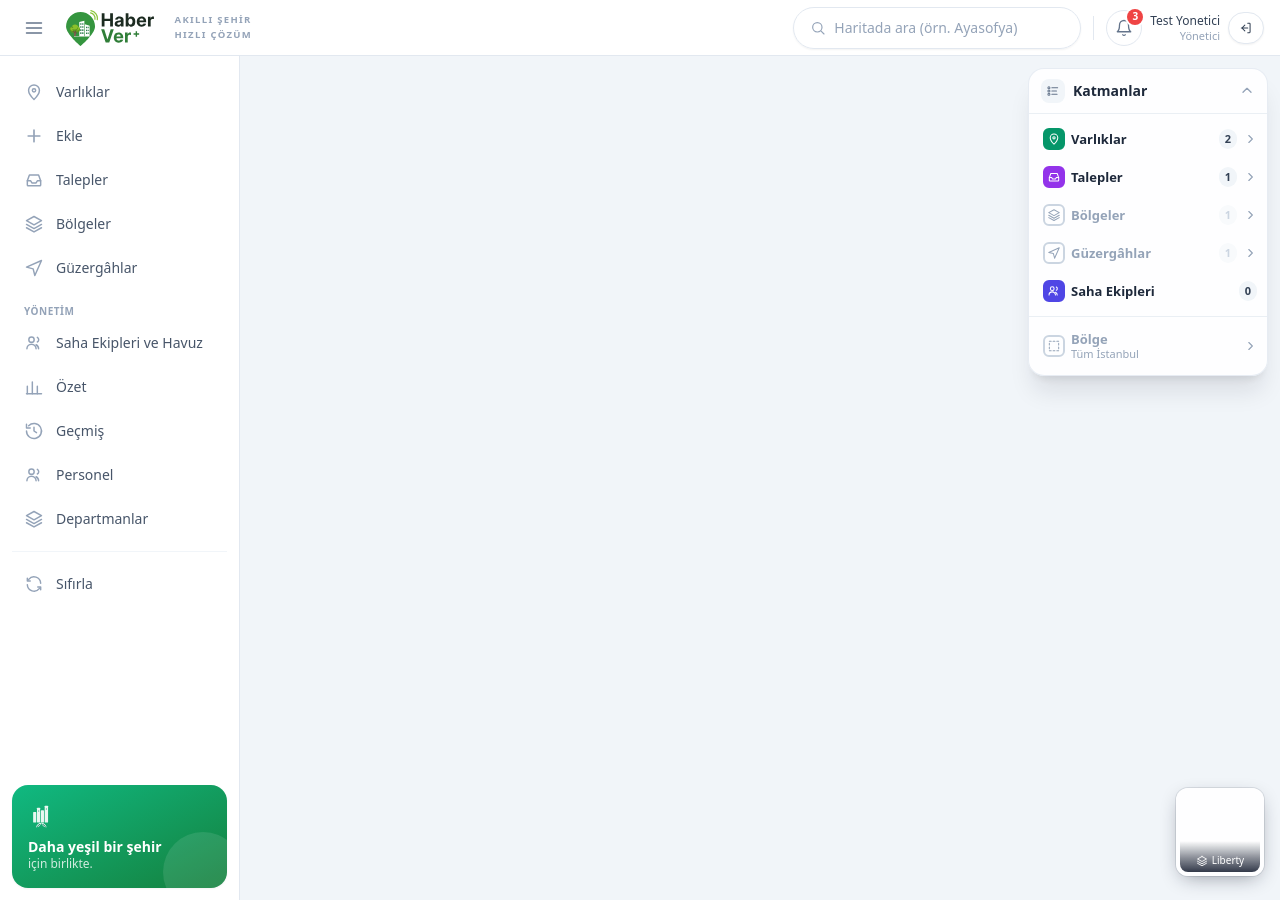
Scenario: App - tur/durum filtresi tek kaynaktan beslenir › acilista TUM turler gorunur (BASLANGIC sabitleri sozlukten turetilir)
Click the button "Varlıklar": click(120, 92) [12,72,227,112]
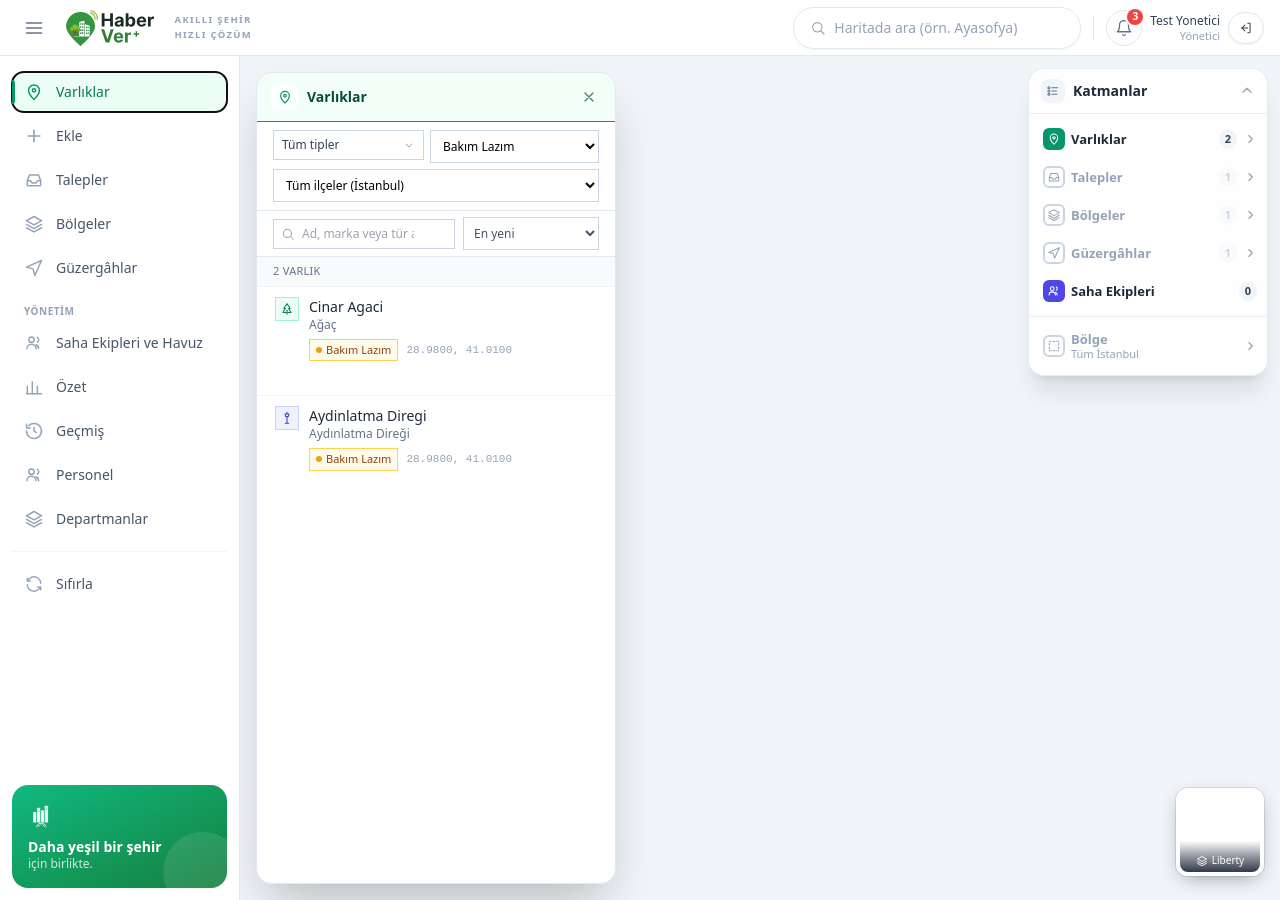
Now the text "Cinar Agaci" is shown, box [309,296,383,316]
Now the text "Aydinlatma Diregi" is shown, box [309,406,426,425]
